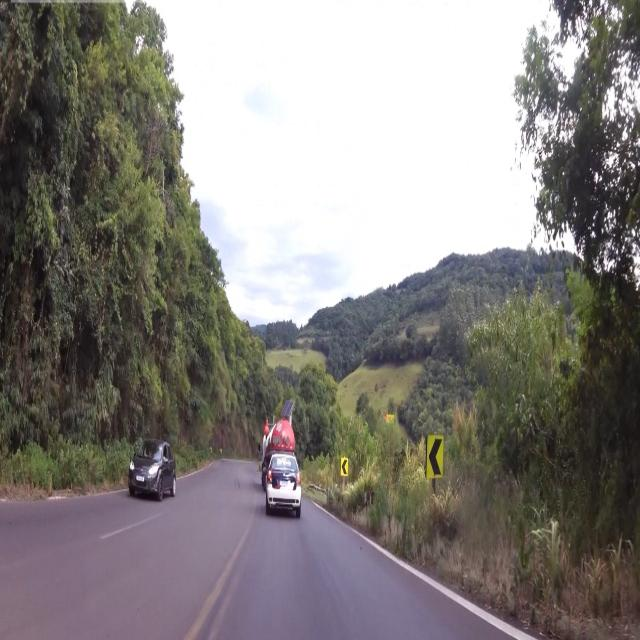Del: (428, 434, 443, 478)
